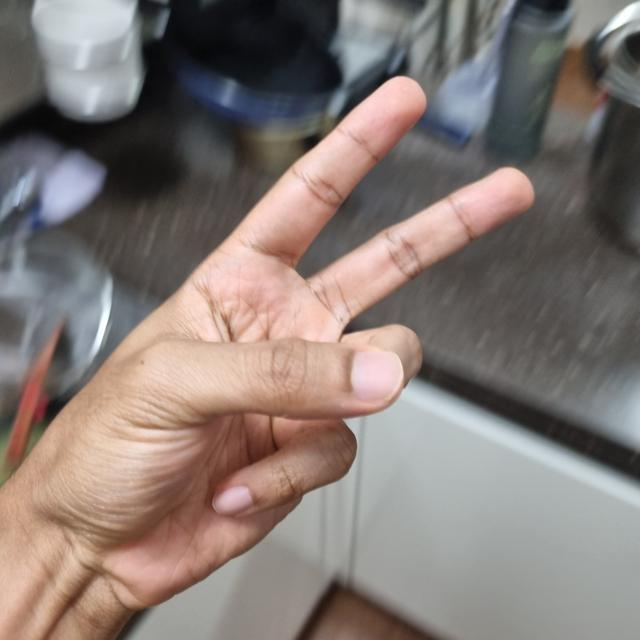Scissors: (7, 80, 527, 608)
